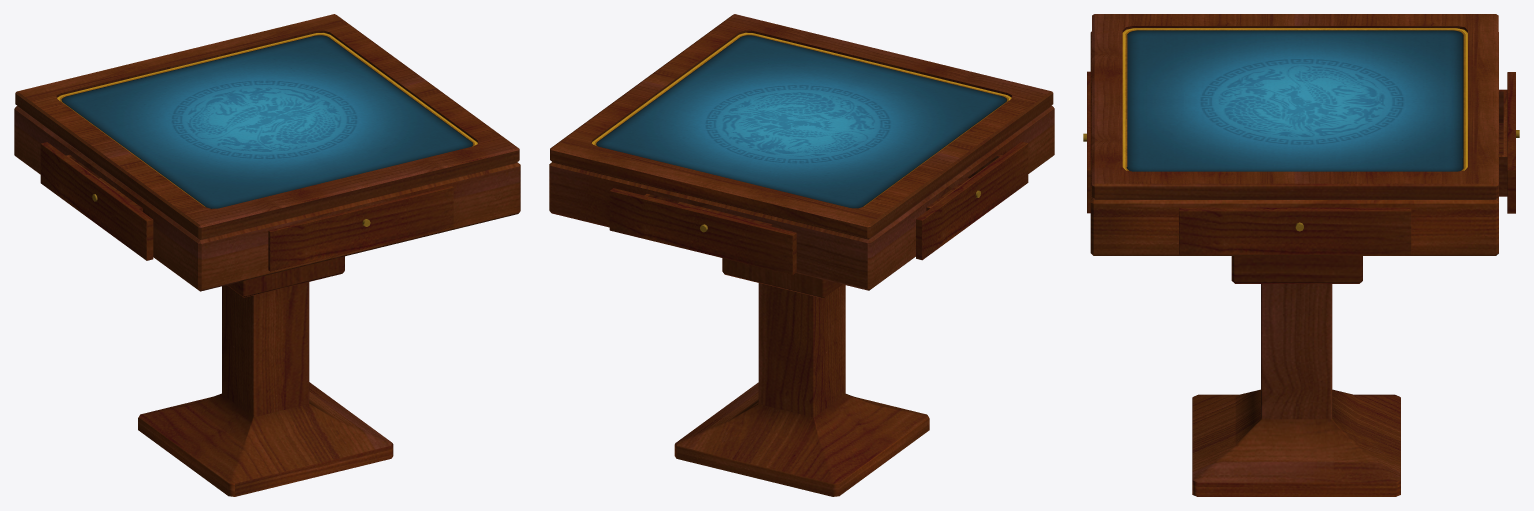
The model's file is Table.fbx.
The picture shows the model from 3 angles, left to right: view 1: azimuth 30°, elevation 25°; view 2: azimuth 150°, elevation 25°; view 3: azimuth 270°, elevation 25°; orthographic projection. The views are drawn at different scales.
Visible parts, largest first — view 1: Table, Drawer03, Drawer04; view 2: Table, Drawer01, Drawer04; view 3: Table, Drawer02, Drawer01, Drawer03.
Boxes of the visible parts, x1,y1,x2,y2 form: Table: (14,14,520,496); Drawer03: (268,186,453,271); Drawer04: (40,142,153,260); Table: (549,14,1054,496); Drawer01: (609,188,796,274); Drawer04: (916,141,1028,260); Table: (1090,14,1498,496); Drawer02: (1179,207,1411,254); Drawer01: (1499,72,1519,213); Drawer03: (1083,71,1090,213).
Size of the model in its own units: 137 by 122 by 136.
